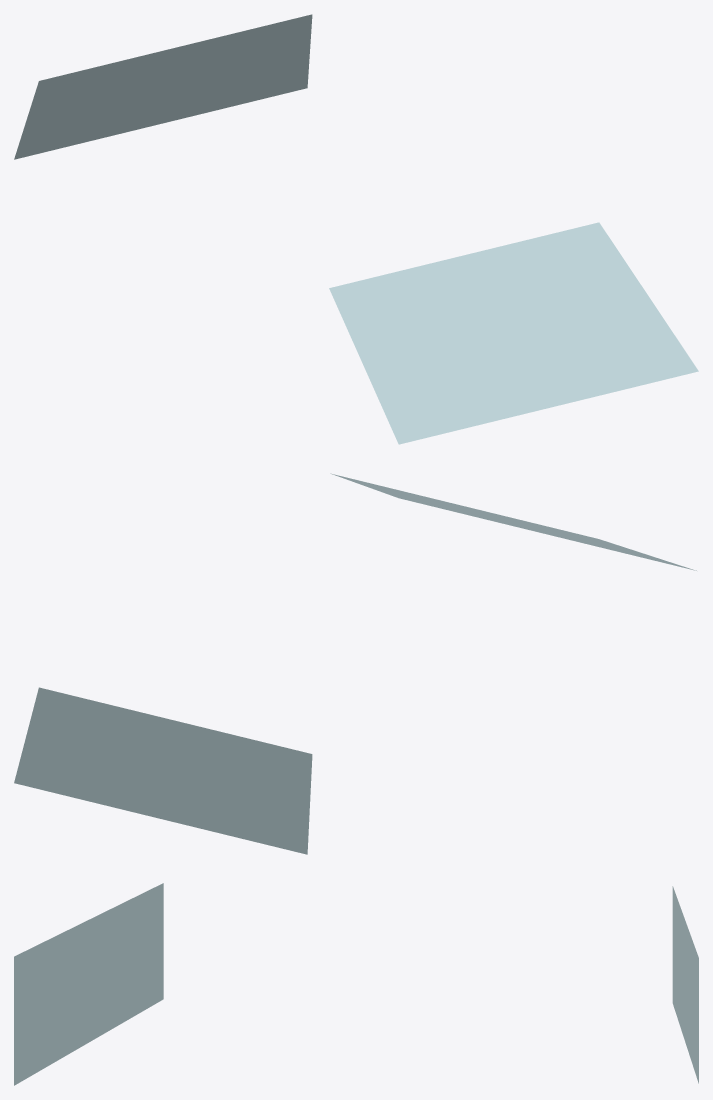
File: Glass.glb
The picture shows the model from 3 angles, top to bottom: view 1: azimuth 30°, elevation 25°; view 2: azimuth 150°, elevation 25°; view 3: azimuth 270°, elevation 25°; orthographic projection. The views are drawn at different scales.
Visible parts, largest first — view 1: Glass_ClearSmokeGlass; view 2: Glass_ClearSmokeGlass; view 3: Glass_ClearSmokeGlass.
Boxes of the visible parts, x1,y1,x2,y2 form: Glass_ClearSmokeGlass: (14, 14, 698, 444); Glass_ClearSmokeGlass: (14, 473, 696, 854); Glass_ClearSmokeGlass: (14, 883, 698, 1085).
Size of the model in its own units: 1.8 by 0.52 by 4.03.
